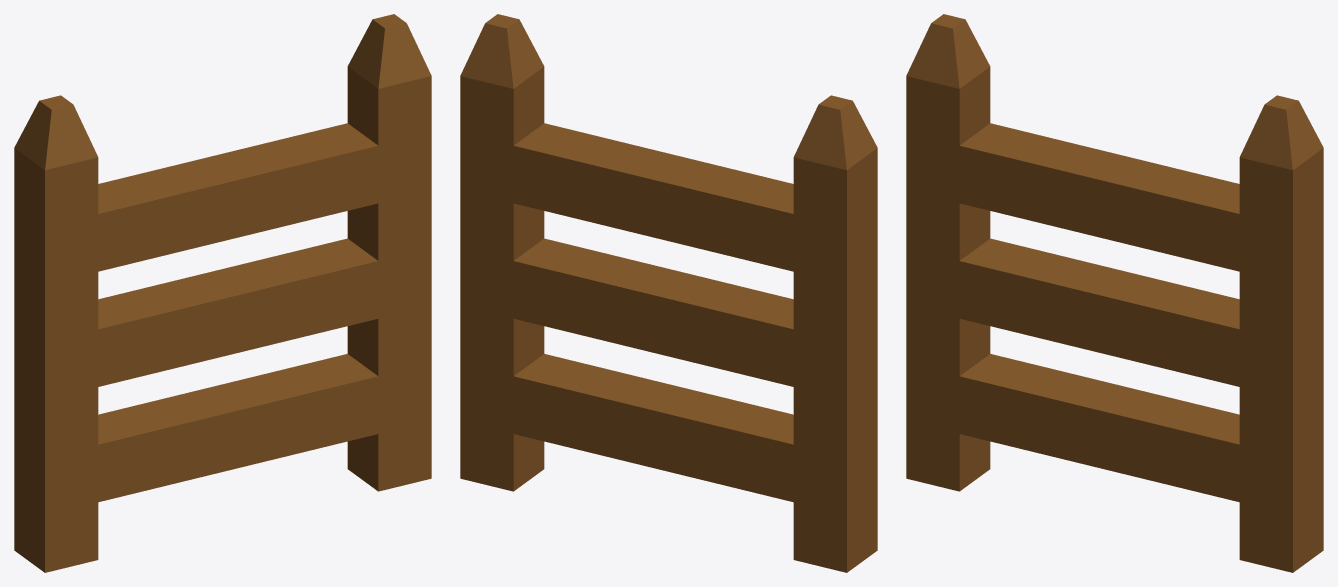
The model's file is fence.fbx.
The picture shows the model from 3 angles, left to right: view 1: azimuth 30°, elevation 25°; view 2: azimuth 150°, elevation 25°; view 3: azimuth 330°, elevation 25°; orthographic projection.
Parts seen in each view (by area): view 1: Fence; view 2: Fence; view 3: Fence.
Boxes of the visible parts, bbox=[...] form: Fence: bbox=[14, 14, 431, 572]; Fence: bbox=[460, 14, 877, 572]; Fence: bbox=[906, 14, 1323, 572].
Size of the model in its own units: 276 by 309 by 38.11.
